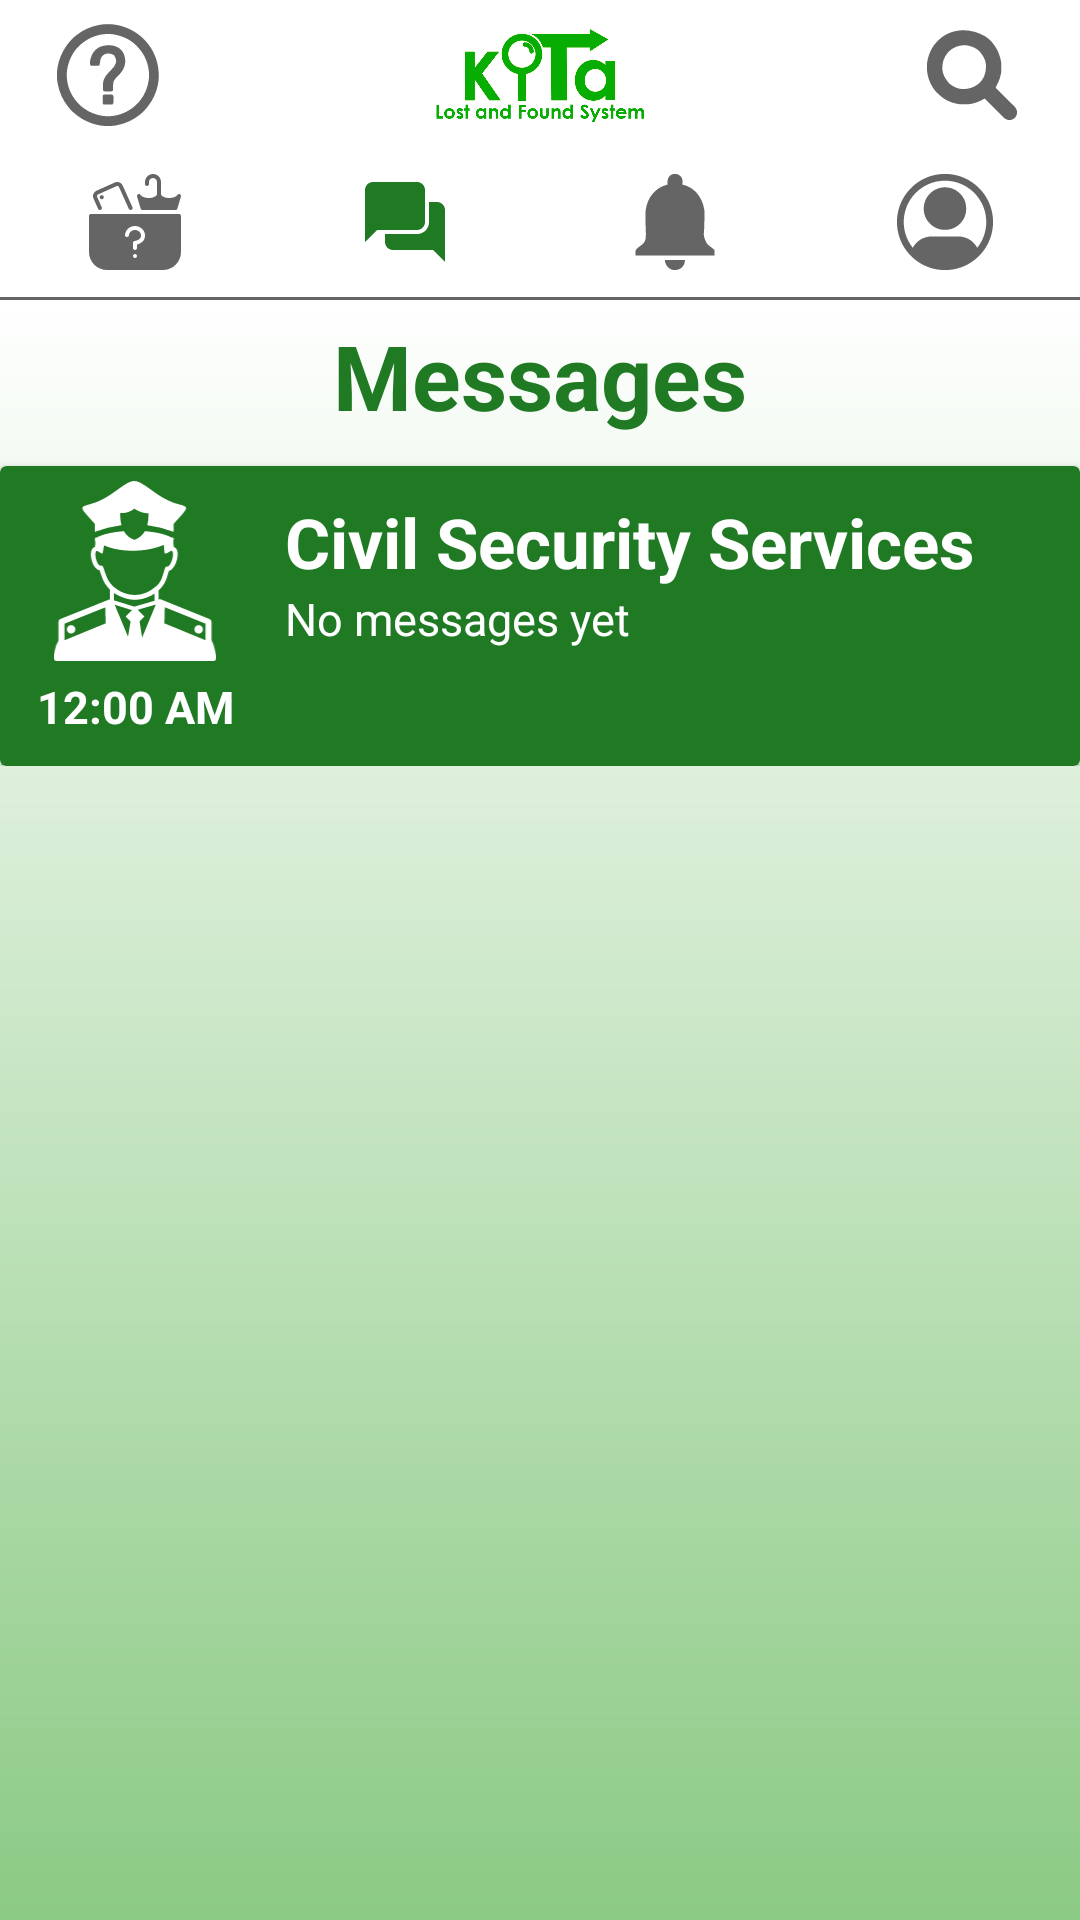

Named icons in this screenshot (1080 × 1920) and their bounding boxes, box(x1, y1, x2, y2):
chat: box(365, 182, 445, 262)
guide: box(57, 24, 159, 126)
lost: box(89, 174, 181, 270)
notification: box(635, 174, 715, 270)
profile: box(897, 174, 993, 270)
search: box(927, 30, 1017, 120)
